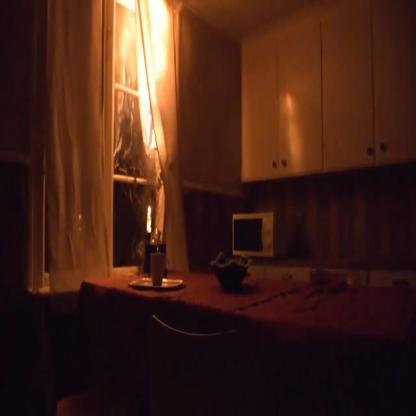fire: (119, 0, 183, 159), (147, 201, 152, 217)
